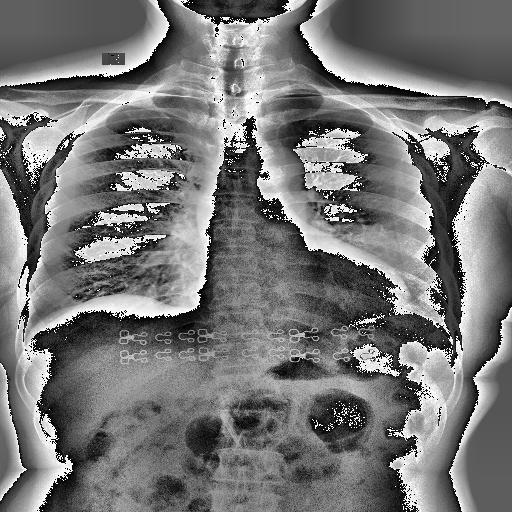0- Aortic enlargement: (198, 148, 302, 230), (240, 144, 304, 198), (248, 144, 308, 196)
3- Cardiomegaly: (194, 276, 414, 322), (188, 279, 419, 312)
